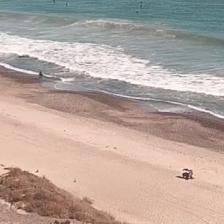surfer: (140, 4, 143, 8), (52, 0, 56, 3), (140, 1, 143, 4), (136, 10, 139, 13), (66, 3, 68, 6)
